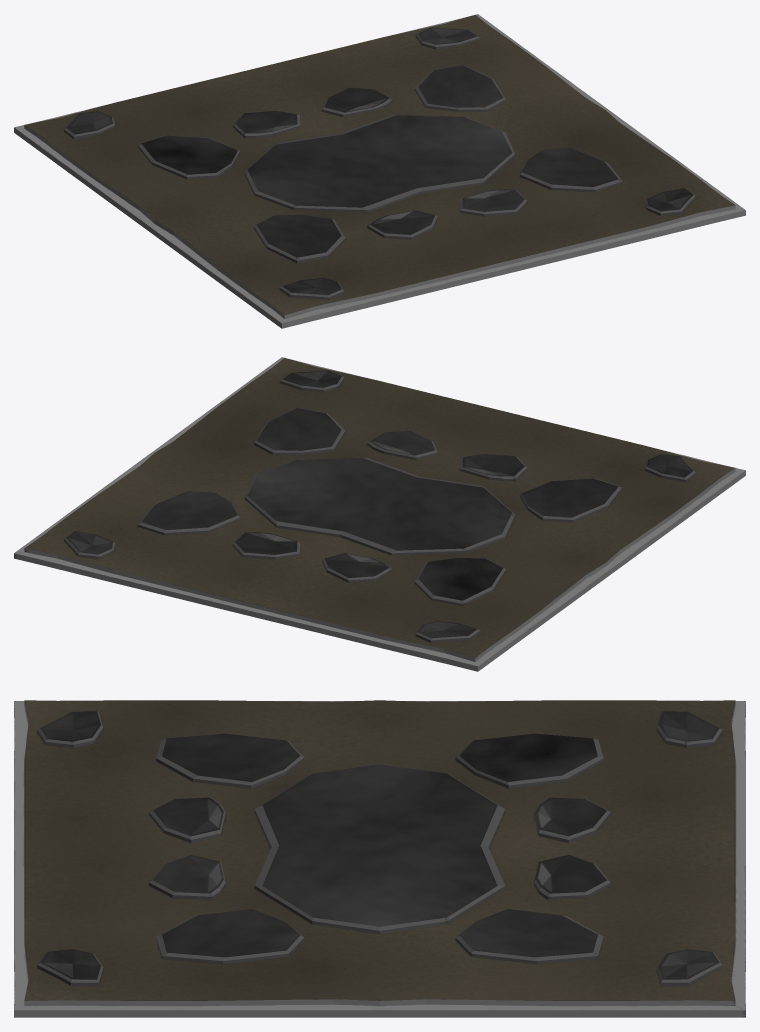
Rendered from Floor.fbx.
3 renders of one model, top to bottom at view 1: azimuth 30°, elevation 25°; view 2: azimuth 150°, elevation 25°; view 3: azimuth 270°, elevation 25°, orthographic. The views are drawn at different scales.
Visible parts, largest first — view 1: Floor; view 2: Floor; view 3: Floor.
Boxes of the visible parts, bbox=[...] form: Floor: bbox=[14, 14, 745, 328]; Floor: bbox=[14, 357, 745, 671]; Floor: bbox=[14, 700, 745, 1017].
Bounding box in the file's own units: 1133 × 29.93 × 1133.
